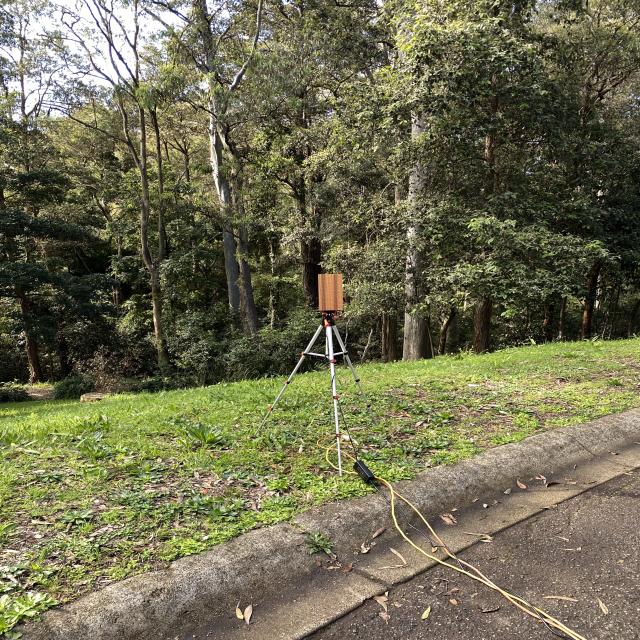matrix: (312, 272, 348, 311)
